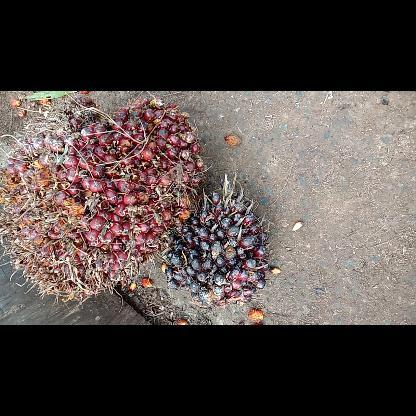TBS abnormal: (162, 177, 272, 305)
TBS masak: (0, 95, 204, 303)
